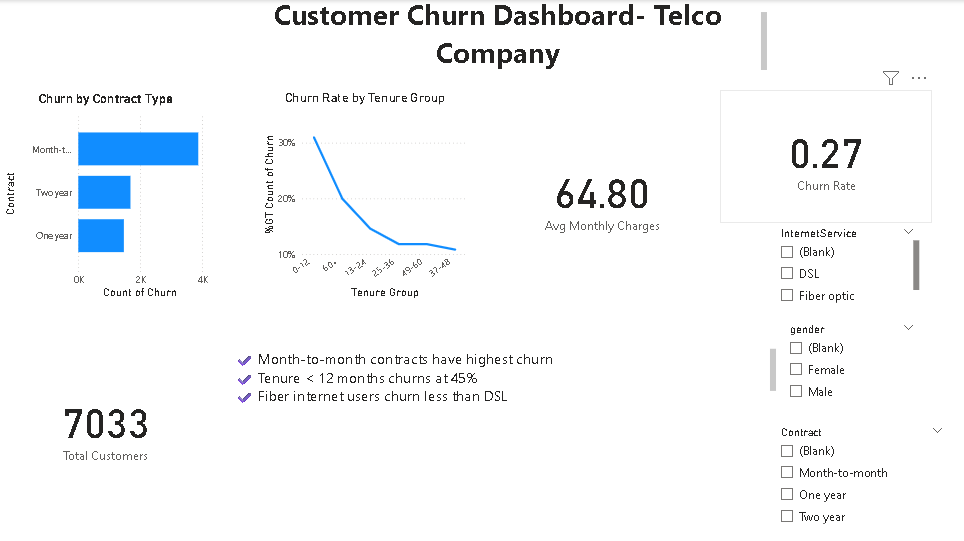

Layout of this report page (visuals, bound fields, positions):
{"tool":"powerbi","page":{"name":"Page 1","canvas":[1280,720],"ordinal":0},"visuals":[{"type":"barChart","title":"Churn by Contract Type","fields":{"Category":["Worksheet.Contract"],"Y":["CountNonNull(Worksheet.Churn)"]},"box":[0,120.9,280.5,280.5],"z":0},{"type":"lineChart","title":"Churn Rate by Tenure Group","fields":{"Category":["Worksheet.Tenure Group"],"Y":["CountNonNull(Worksheet.Churn)"]},"box":[344.4,119.3,280.5,282.2],"z":1000},{"type":"card","fields":{"Values":["Worksheet.Avg Monthly Charges"]},"box":[658.5,119.3,282.2,282.2],"z":2000},{"type":"card","fields":{"Values":["Worksheet.Churn Rate"]},"box":[955.8,119.3,282.2,176.4],"z":3000},{"type":"textbox","box":[307.4,458.6,729,82.3],"z":4000},{"type":"card","fields":{"Values":["Worksheet.Total Customers"]},"box":[0,446.8,280.5,240.2],"z":4001},{"type":"slicer","fields":{"Values":["Worksheet.InternetService"]},"box":[1024.7,295.6,201.6,115.9],"z":4002},{"type":"slicer","fields":{"Values":["Worksheet.gender"]},"box":[1036.4,423.3,189.8,137.7],"z":4003},{"type":"slicer","fields":{"Values":["Worksheet.Contract"]},"box":[1024.7,561,240.2,149.5],"z":4004},{"type":"textbox","box":[307.3,0,717.1,98],"z":4005}]}

Visuals, with their boxes on the page's 1280x720 design canvas (x1, y1, x2, y2). These are canvas units, not pixel positions in the 964x541 screenshot, which may show the page scaled, cropped or inside an application window:
"Churn by Contract Type" barChart: rect(0, 121, 280, 401)
"Churn Rate by Tenure Group" lineChart: rect(344, 119, 625, 402)
card - Worksheet.Avg Monthly Charges: rect(658, 119, 941, 402)
card - Worksheet.Churn Rate: rect(956, 119, 1238, 296)
textbox: rect(307, 459, 1036, 541)
card - Worksheet.Total Customers: rect(0, 447, 280, 687)
slicer - Worksheet.InternetService: rect(1025, 296, 1226, 412)
slicer - Worksheet.gender: rect(1036, 423, 1226, 561)
slicer - Worksheet.Contract: rect(1025, 561, 1265, 710)
textbox: rect(307, 0, 1024, 98)
